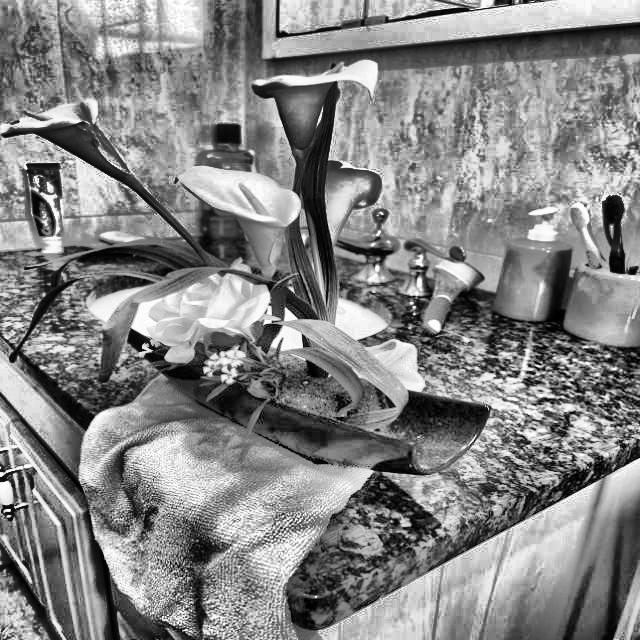plants: (12, 62, 494, 494)
